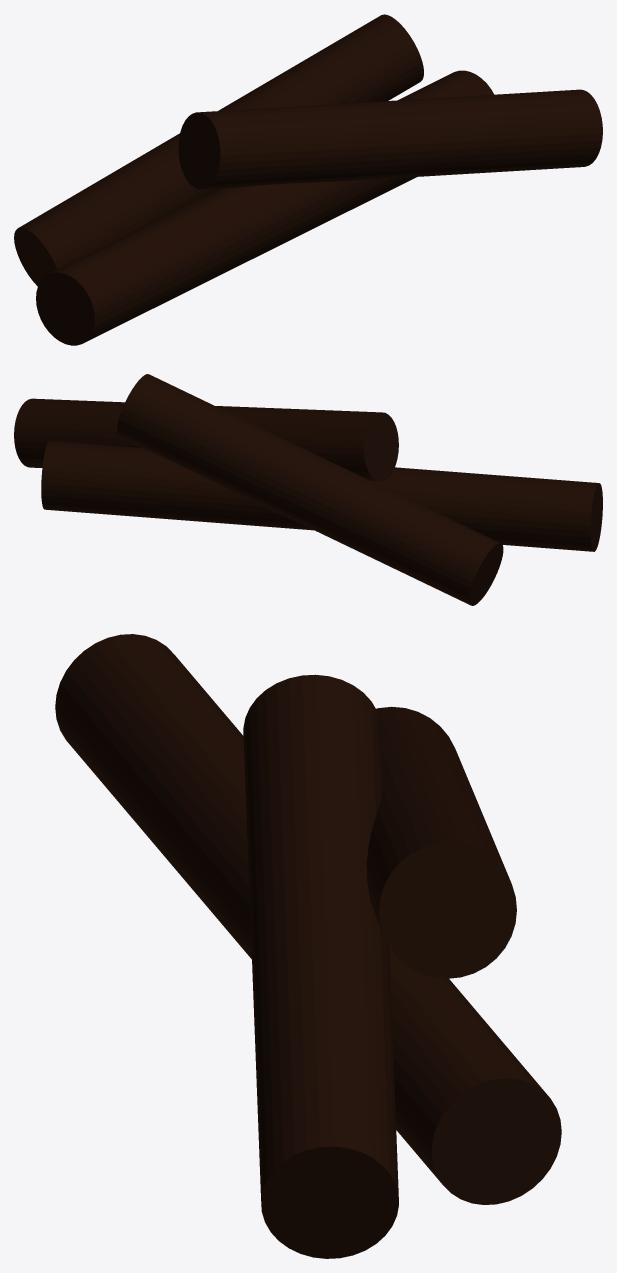
File: wood.obj
3 views of the same model, one above another, from view 1: azimuth 30°, elevation 25°; view 2: azimuth 150°, elevation 25°; view 3: azimuth 270°, elevation 25° (orthographic). The views are drawn at different scales.
Parts seen in each view (by area): view 1: Cylinder; view 2: Cylinder; view 3: Cylinder.
Part boxes in pixels (x1,y1,x2,y2): Cylinder: [14, 14, 602, 345]; Cylinder: [14, 374, 602, 605]; Cylinder: [55, 634, 561, 1258].
Size of the model in its own units: 5.87 by 1.67 by 2.44.
